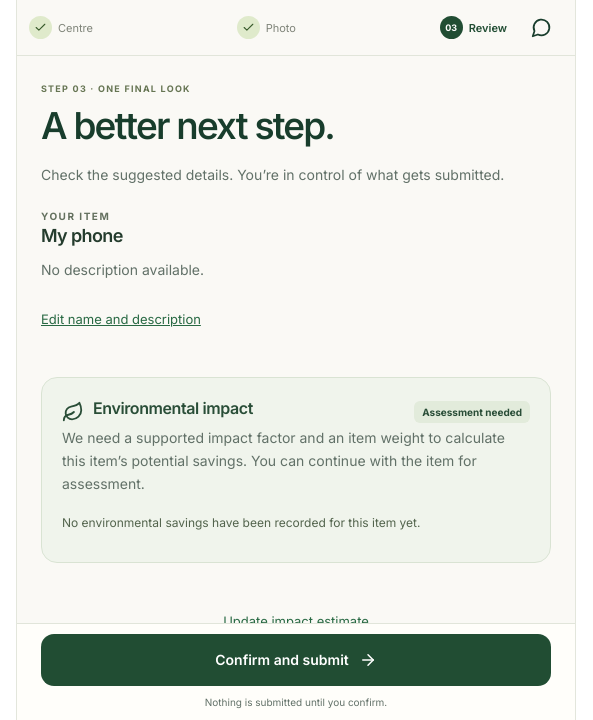
Test: closes an unchanged editor without prompting or enabling native close confirmation
This screenshot has width=593, height=720.
Step 1. Click the button "Edit name and description" → (121, 319), box [41,299,201,339]
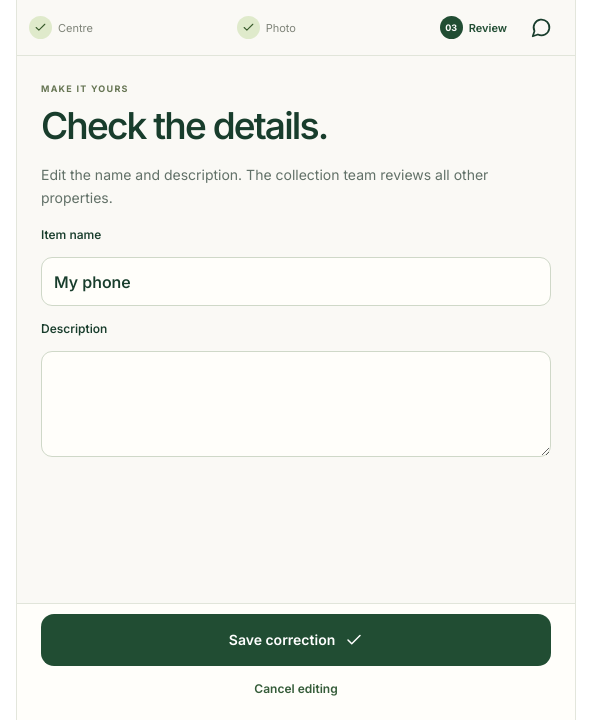
Step 2. Click the button "Cancel editing" → (296, 688), box [41,666,551,710]
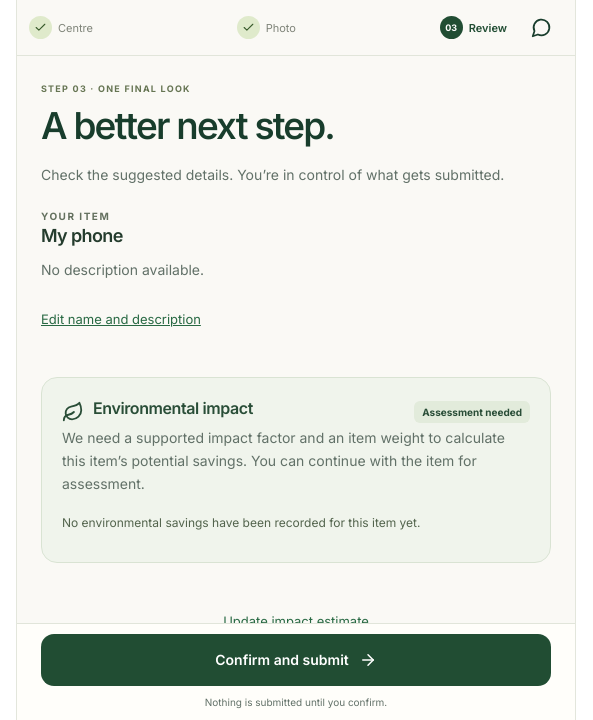
Check: the heading "A better next step." is shown, box [41,103,334,148]
